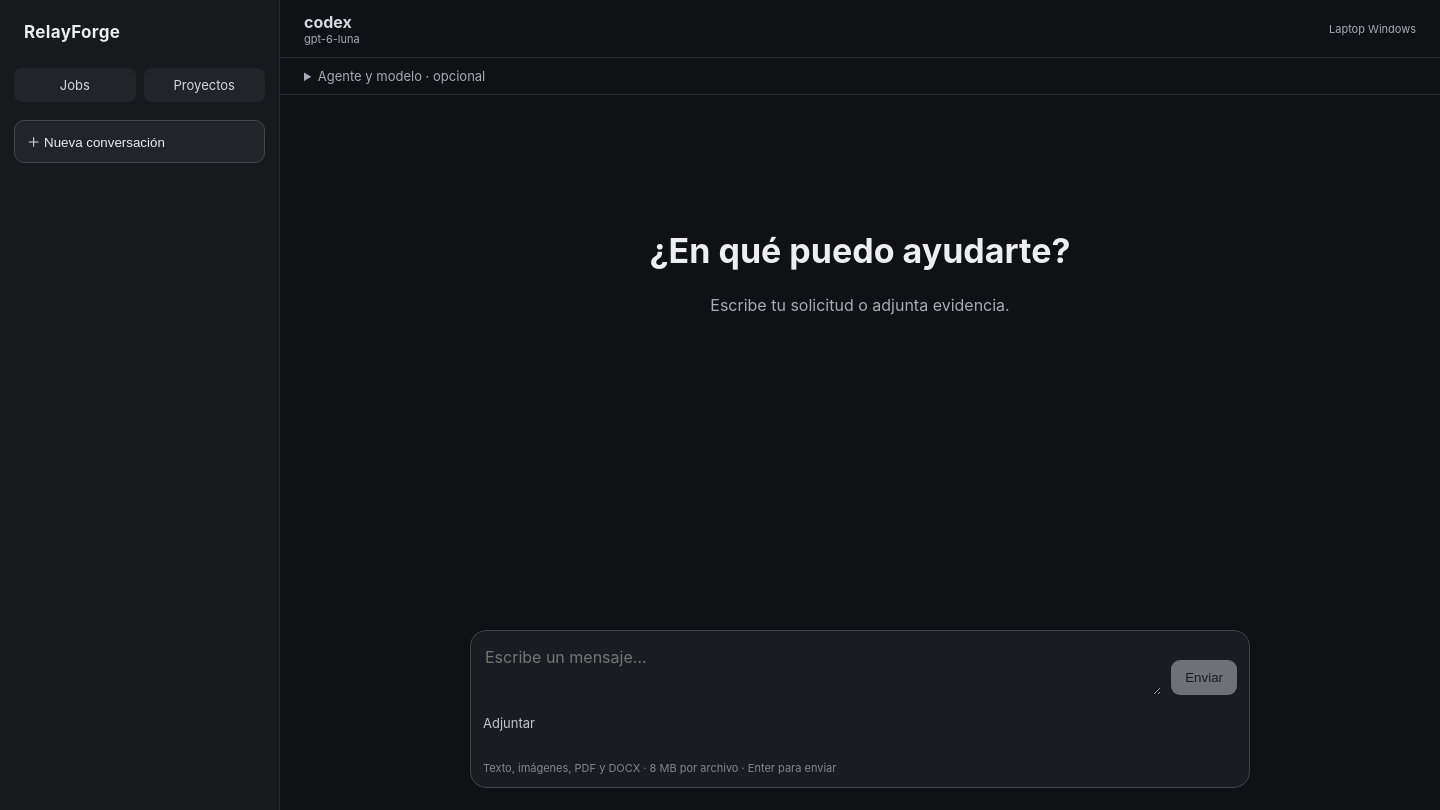
Test case: new conversation creation › shows the API error when creating a conversation fails
Step 1. Click the button "＋ Nueva conversación" → (140,142), box top-left (14, 120), bottom-right (265, 163)
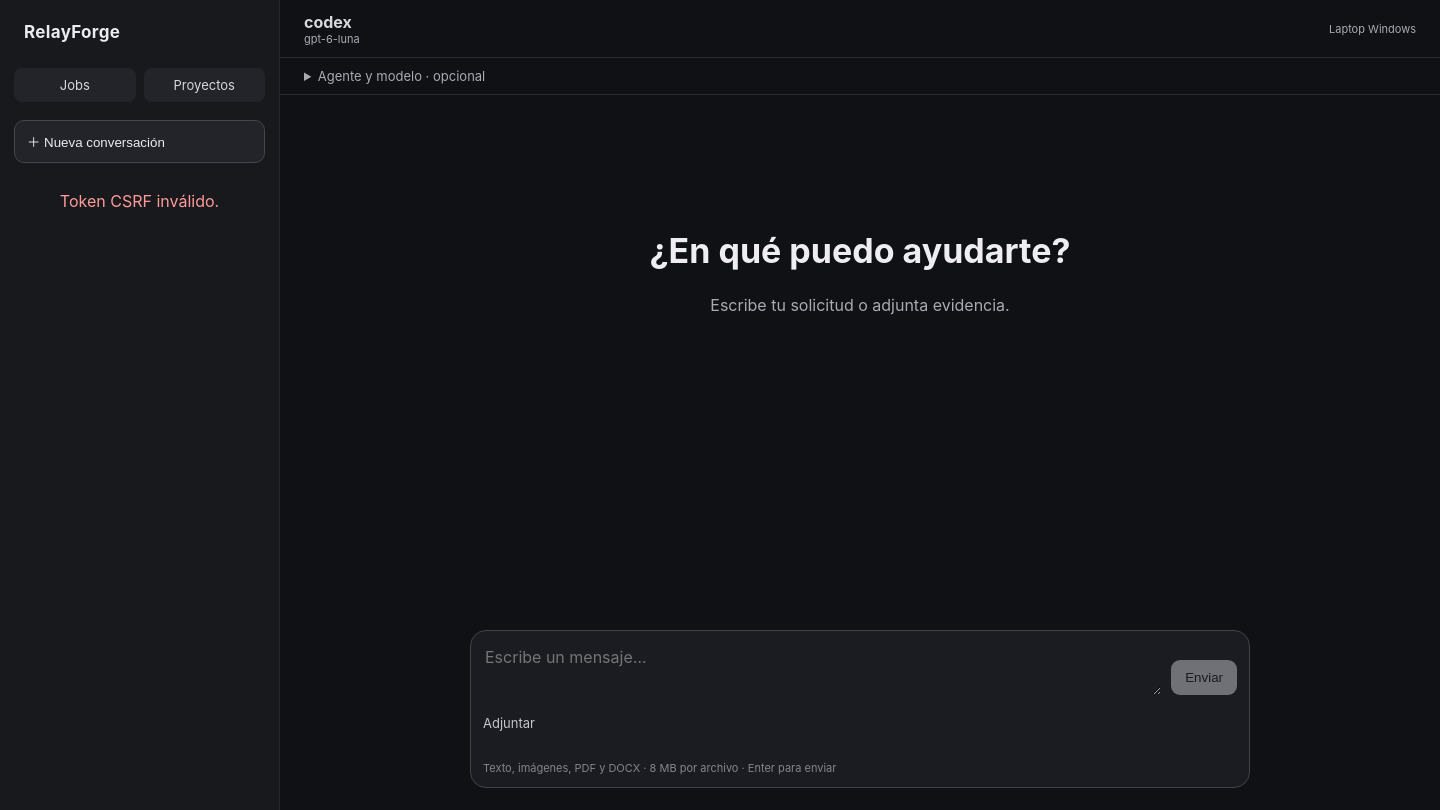
Check: the message reads "Token CSRF inválido.", box top-left (60, 191), bottom-right (219, 211)
